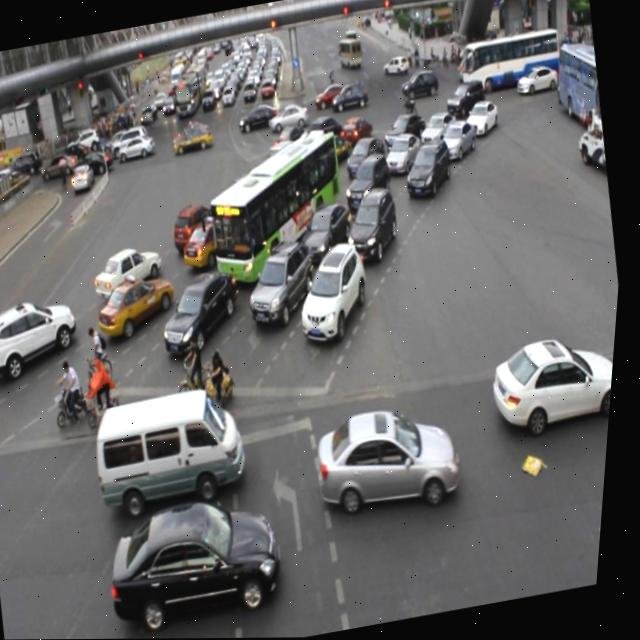car: (107, 488, 297, 627), (312, 394, 472, 521), (485, 326, 621, 437), (294, 238, 379, 341), (158, 267, 251, 353), (0, 291, 87, 375), (243, 238, 324, 322), (96, 271, 183, 338), (91, 241, 171, 304), (343, 183, 406, 261), (299, 201, 361, 262), (180, 213, 245, 268), (401, 139, 457, 198), (343, 153, 397, 211), (172, 200, 229, 254), (277, 159, 332, 204), (342, 132, 390, 182), (241, 188, 292, 233), (381, 110, 430, 155), (225, 171, 273, 213), (416, 109, 460, 153), (383, 132, 425, 178), (443, 81, 489, 123), (438, 118, 480, 163), (310, 129, 355, 170), (307, 113, 348, 154), (463, 98, 502, 139), (273, 123, 311, 160), (337, 112, 376, 147)
truck: (92, 381, 262, 516), (258, 137, 308, 183)
van: (198, 129, 359, 294)
